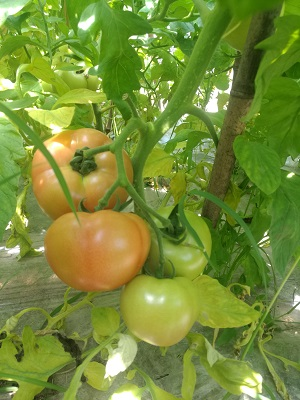immature-tomato: (121, 274, 198, 347), (144, 206, 214, 281)
semi-mature-tomato: (33, 129, 134, 225), (44, 211, 150, 291)
